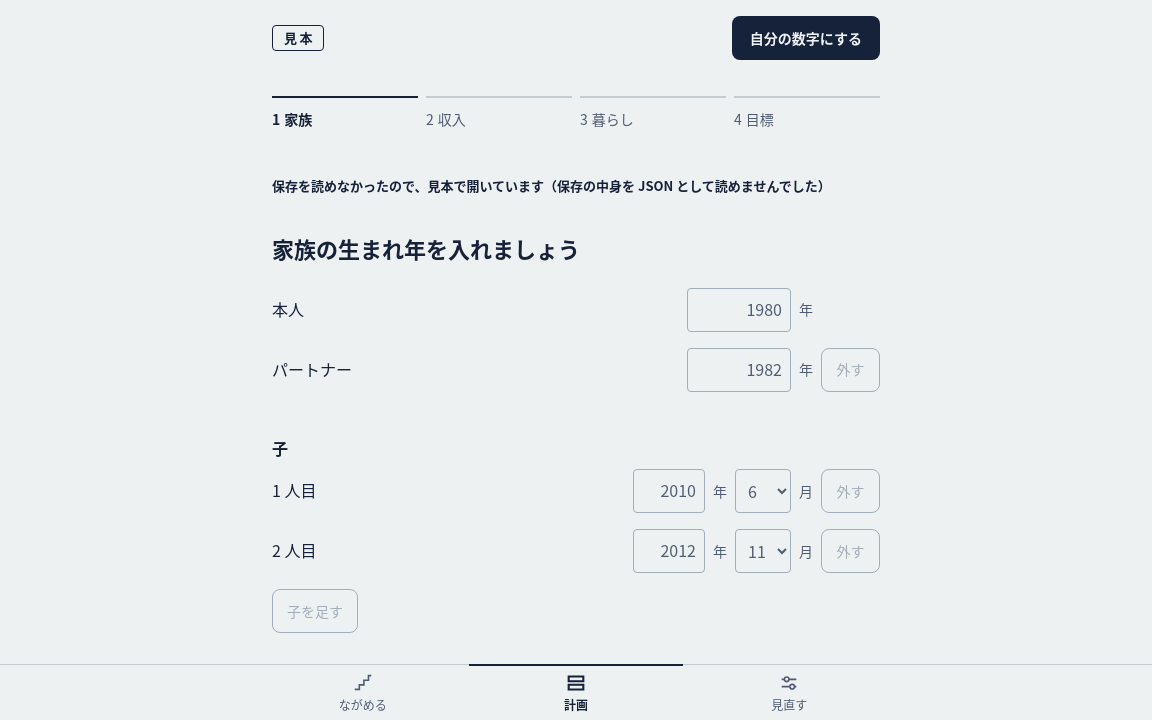
Test: 計画（T6） › 壊れた保存があるときは、「計画」にも知らせを出し、「自分の数字にする」は 2 回押しで前の保存を消す
Expected: the message shows "見本で開いています", [414,176,557,195]
Click the button "自分の数字にする": (806, 38) [732,16,880,60]
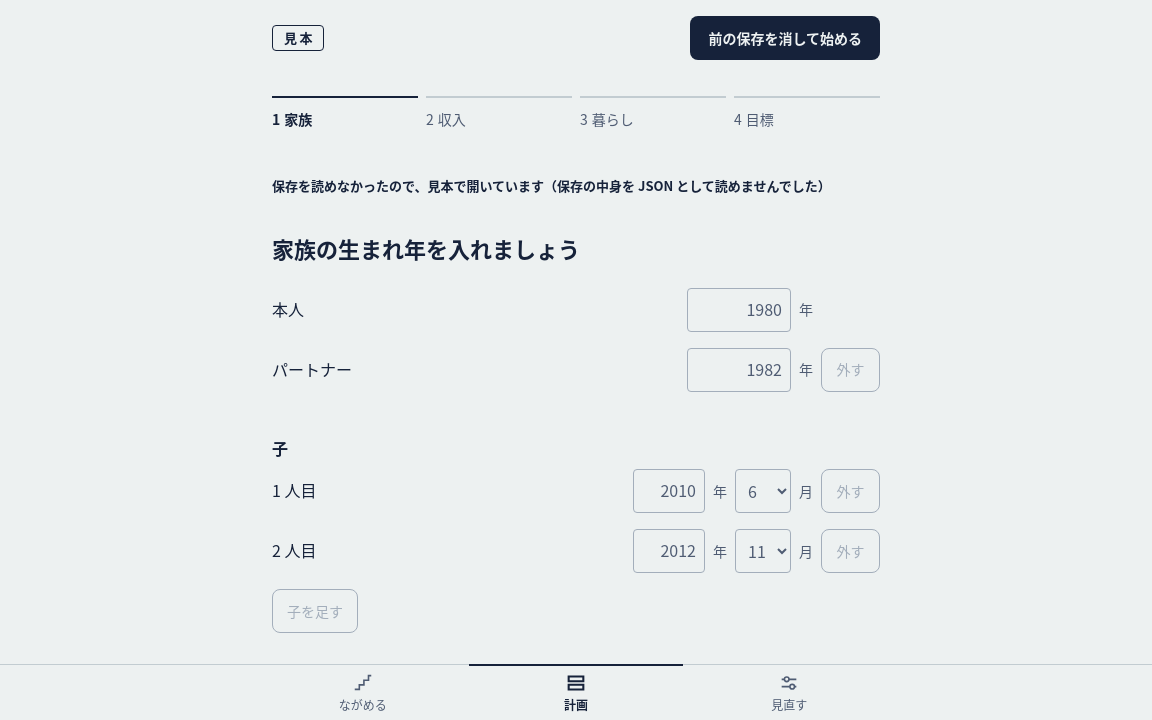
Click the button "前の保存を消して始める": (785, 38) [690,16,880,60]
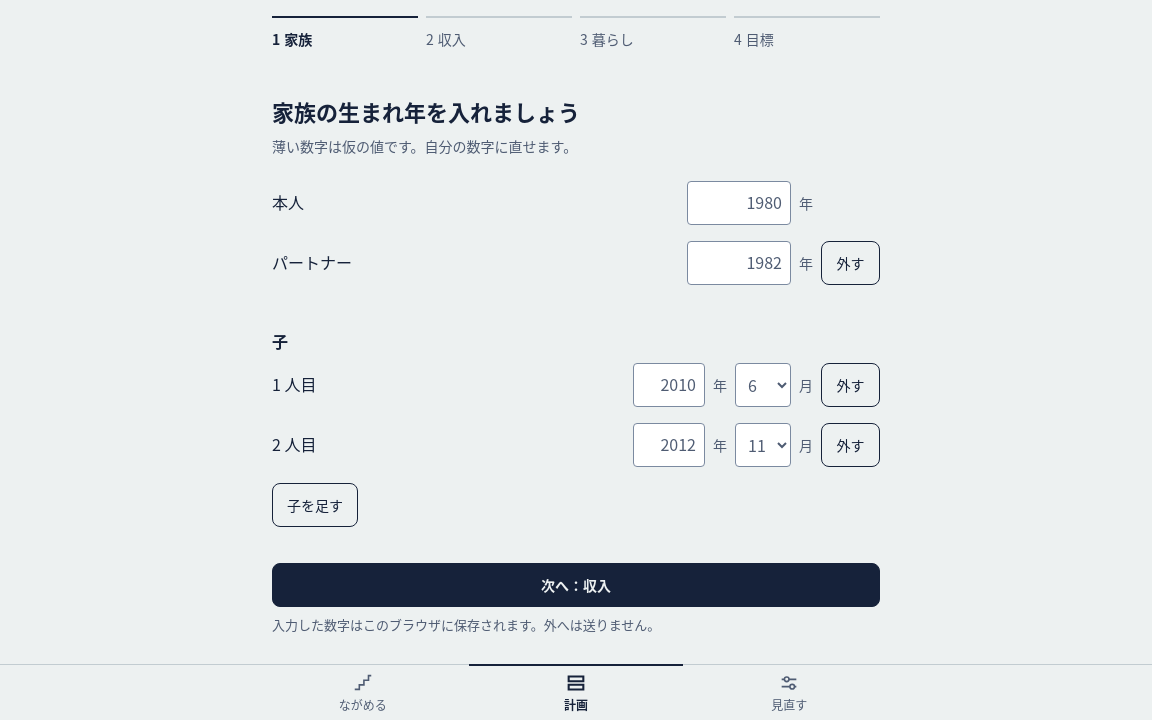
Result: the text "見本" is gone
